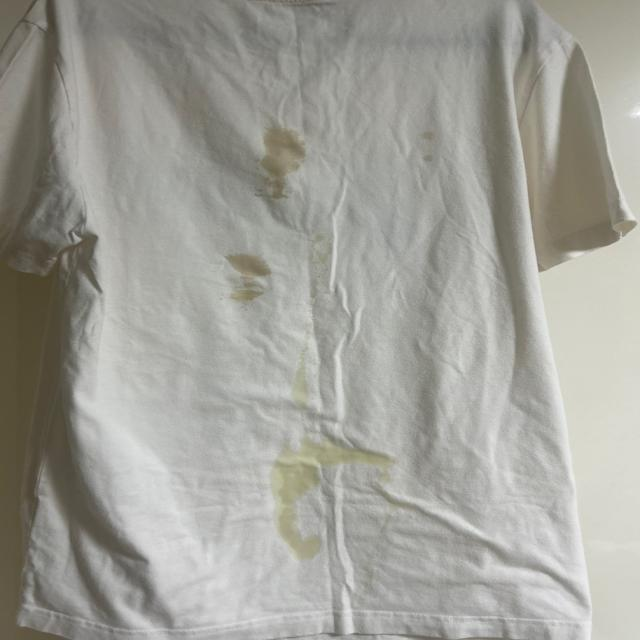stain: (273, 446, 321, 560), (259, 124, 308, 208), (312, 428, 399, 472), (220, 253, 266, 299), (291, 350, 329, 404), (421, 130, 444, 166)
